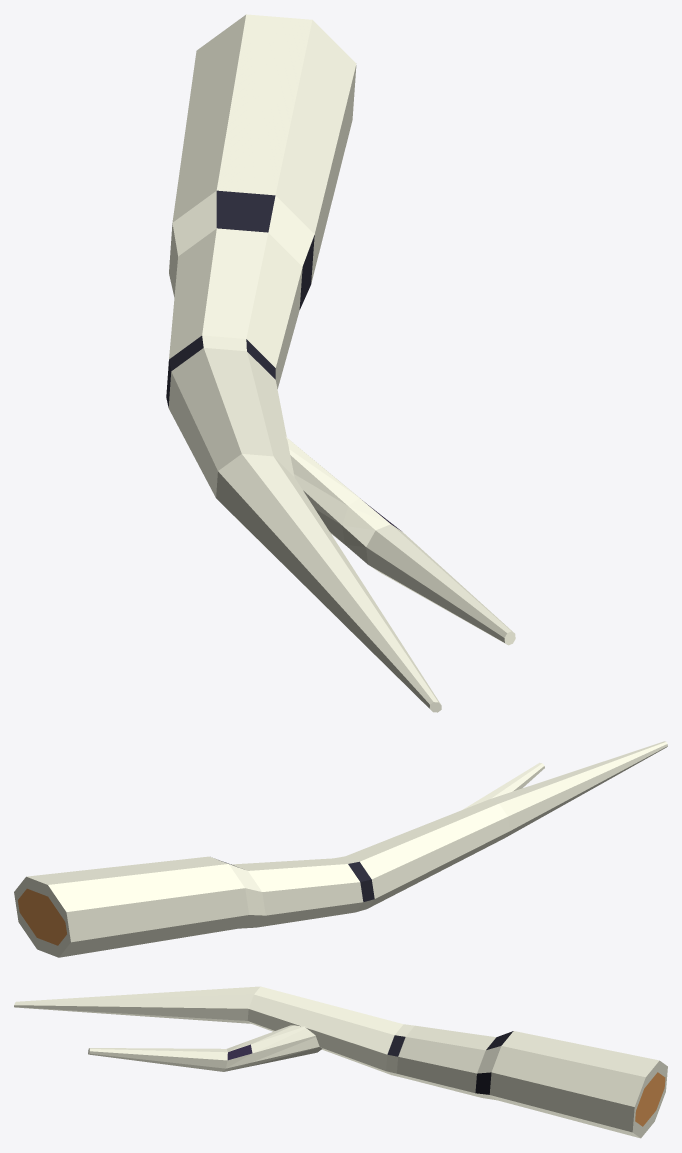
The model's file is Log2_summer.FBX.
The picture shows the model from 3 angles, top to bottom: view 1: azimuth 30°, elevation 25°; view 2: azimuth 150°, elevation 25°; view 3: azimuth 270°, elevation 25°; orthographic projection. The views are drawn at different scales.
Visible parts, largest first — view 1: Vetki; view 2: Vetki; view 3: Vetki.
Boxes of the visible parts, x1=… form: Vetki: x1=166, y1=14, x2=515, y2=712; Vetki: x1=14, y1=741, x2=667, y2=957; Vetki: x1=14, y1=986, x2=667, y2=1138.
Size of the model in its own units: 0.5121 by 0.1475 by 1.06.
